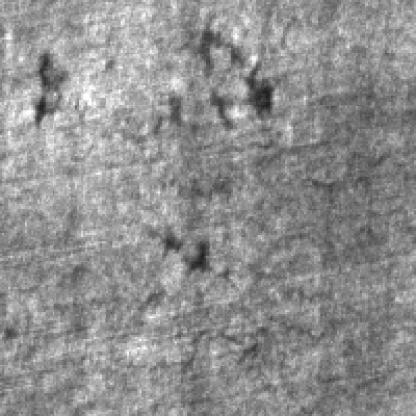crazing: (52, 223, 318, 370), (66, 9, 308, 141)
